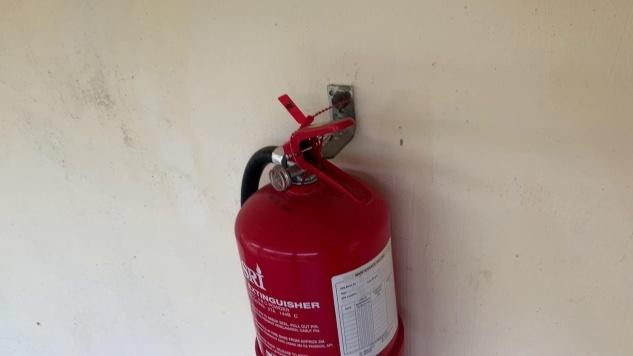APAR: (233, 115, 406, 355)
